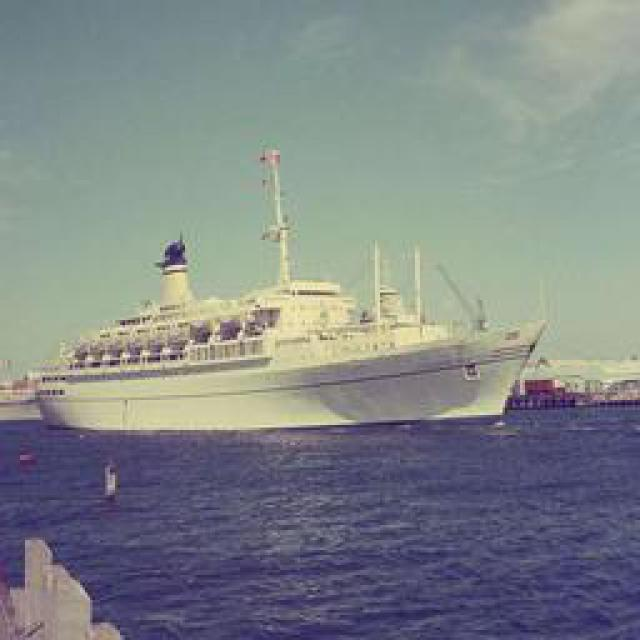Ship: (31, 155, 556, 428)
